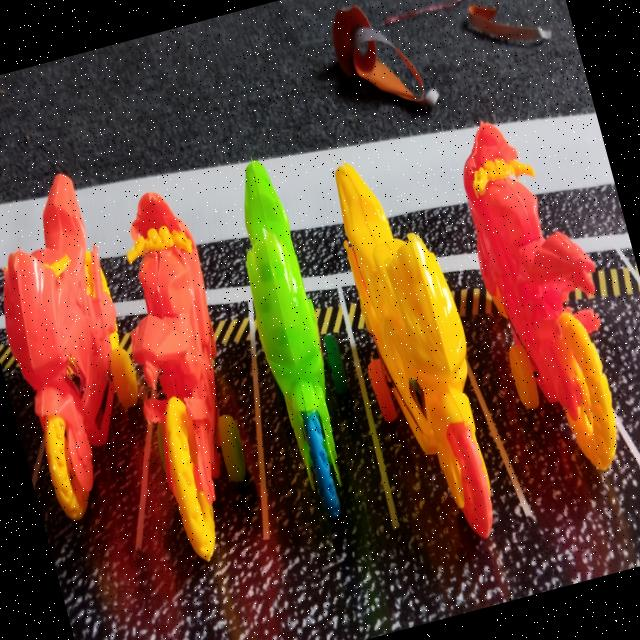occupied: (335, 163, 531, 586), (462, 123, 640, 566), (3, 174, 150, 576), (244, 161, 390, 534), (126, 192, 263, 561)
others: (0, 0, 595, 202), (332, 5, 437, 108), (468, 4, 551, 40), (384, 0, 462, 24), (392, 45, 422, 88)
slots: (591, 297, 640, 453)
